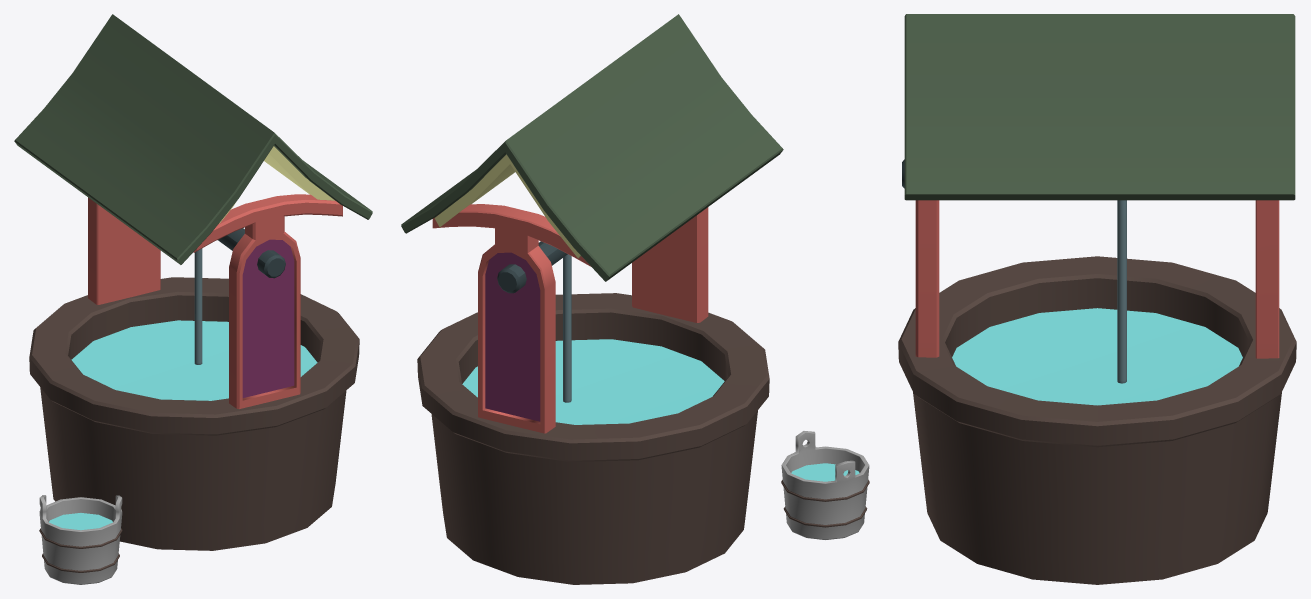
File: Pozo.fbx
The picture shows the model from 3 angles, left to right: view 1: azimuth 30°, elevation 25°; view 2: azimuth 150°, elevation 25°; view 3: azimuth 270°, elevation 25°; orthographic projection. The views are drawn at different scales.
Parts seen in each view (by area): view 1: pCylinder7; view 2: pCylinder7; view 3: pCylinder7.
Part boxes in pixels (x1,y1,x2,y2): pCylinder7: [14, 14, 372, 584]; pCylinder7: [401, 14, 869, 584]; pCylinder7: [898, 14, 1296, 584].
Bounding box in the file's own units: 329 × 380 × 275.
